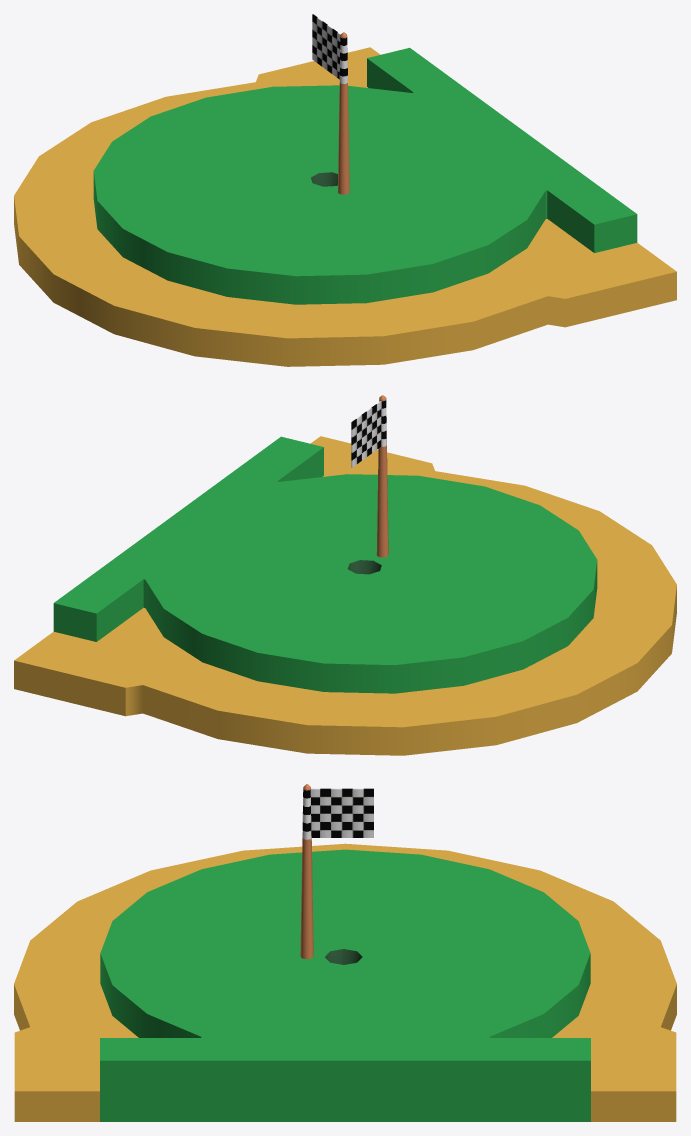
File: Finish_01.fbx
3 views of the same model, one above another, from view 1: azimuth 30°, elevation 25°; view 2: azimuth 150°, elevation 25°; view 3: azimuth 270°, elevation 25° (orthographic). The views are drawn at different scales.
Visible parts, largest first — view 1: pCylinder6; view 2: pCylinder6; view 3: pCylinder6.
Boxes of the visible parts, x1,y1,x2,y2 form: pCylinder6: [14, 14, 676, 366]; pCylinder6: [14, 395, 676, 755]; pCylinder6: [14, 784, 676, 1121].
Bounding box in the file's own units: 27.44 × 12.07 × 31.07.
Materials: 1 (1 with a texture image).
